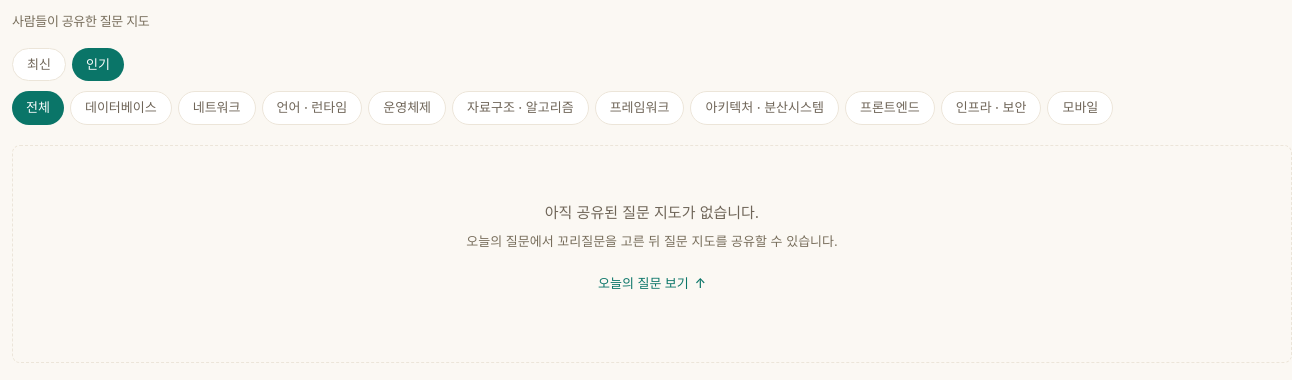
Board · 다음 페이지 › 첫 목록 실패를 즉시 알리고 다시 시도할 수 있다
Click the button "최신" at x=39, y=64, box [12, 48, 66, 81]
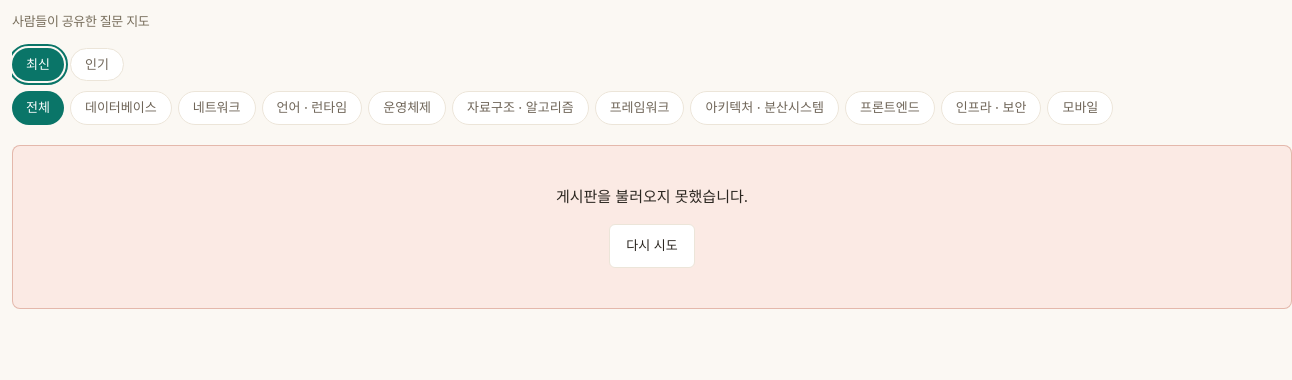
expect the message "게시판을 불러오지 못했습니다. 다시 시도" is shown: met, box [12, 144, 1291, 309]
expect the button "다시 시도" is shown: met, box [609, 224, 695, 268]
